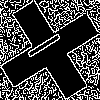I: (25, 25, 71, 61)
